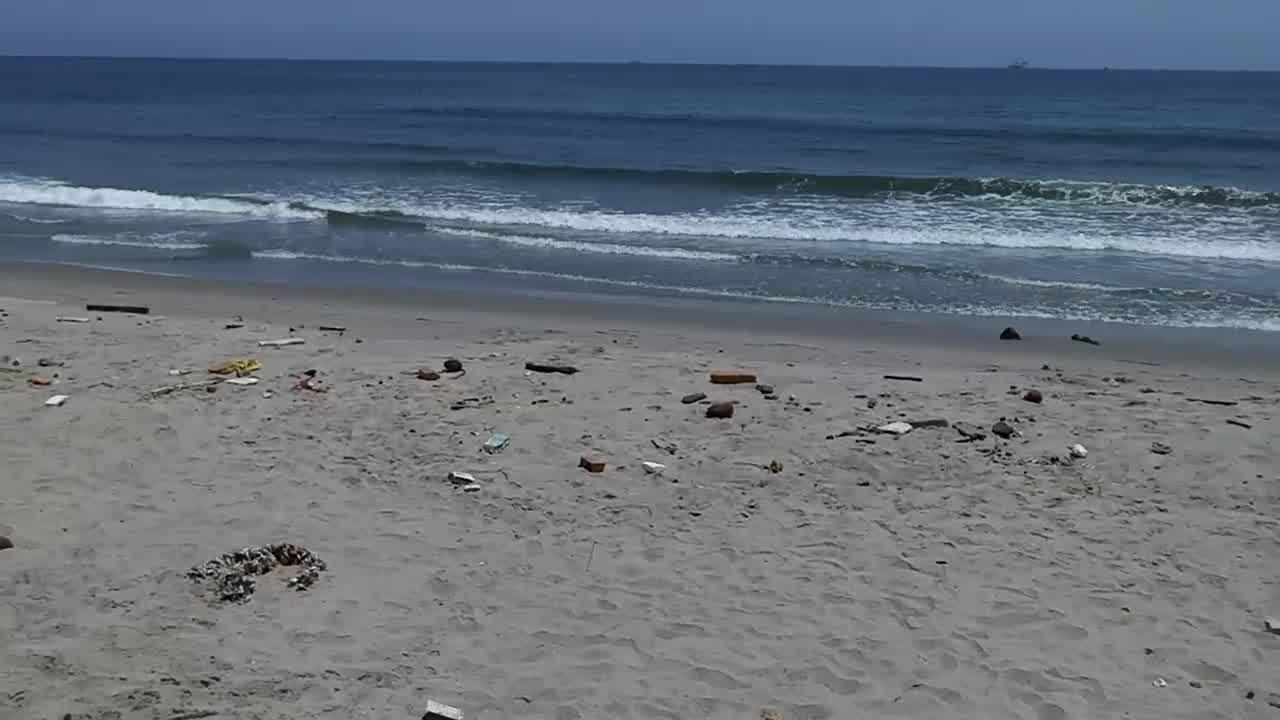obj: (187, 543, 327, 619), (683, 392, 740, 418), (212, 360, 263, 384), (86, 298, 149, 316), (520, 361, 580, 377), (708, 368, 754, 384), (424, 360, 466, 377), (421, 702, 462, 719), (262, 335, 306, 350), (484, 432, 512, 454), (878, 420, 918, 432), (876, 372, 922, 382), (1020, 387, 1044, 404), (580, 455, 604, 472), (42, 394, 70, 408)
sand/background: (0, 0, 1279, 382)
